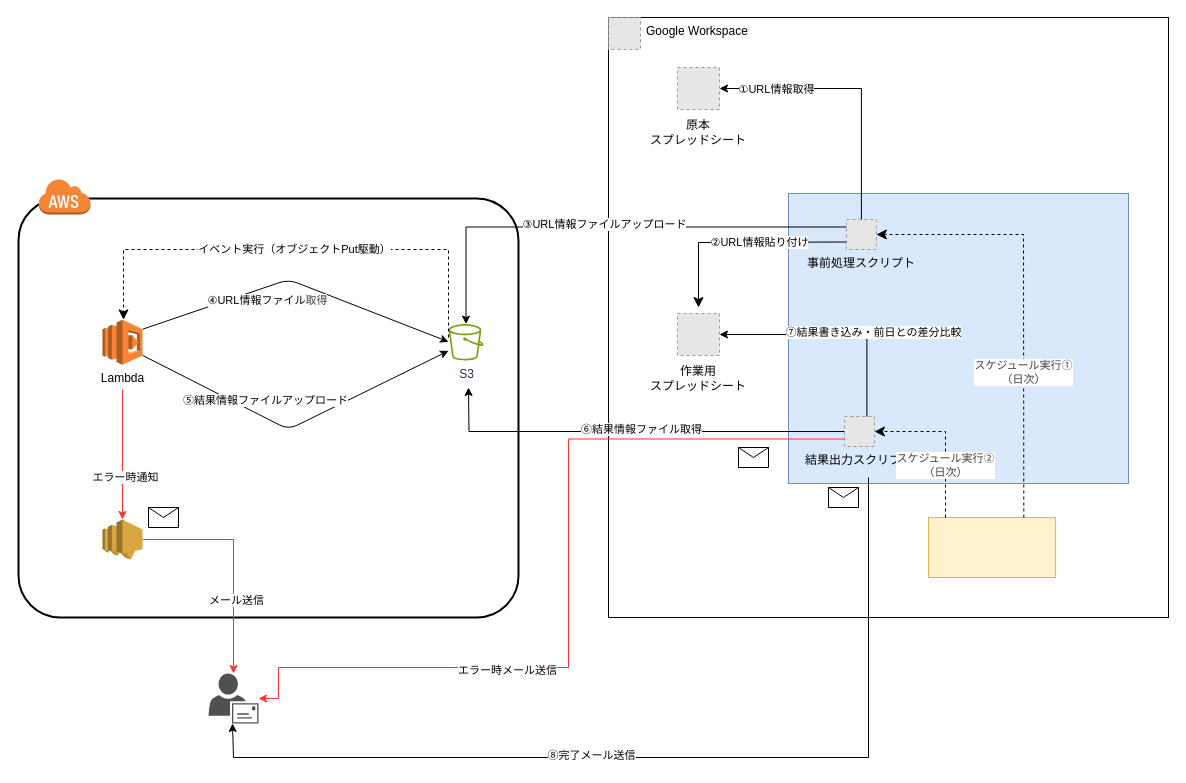
This 1186x783 diagram has some shape labels left out. Grey dashed boxes stand in for pictures. Here are the shapes that lost their labels. From the top down, the box of each, then its label:
(788, 192, 1128, 484): Apps Scriptプロジェクト
(102, 518, 142, 560): SNS
(928, 516, 1056, 578): トリガー機能
